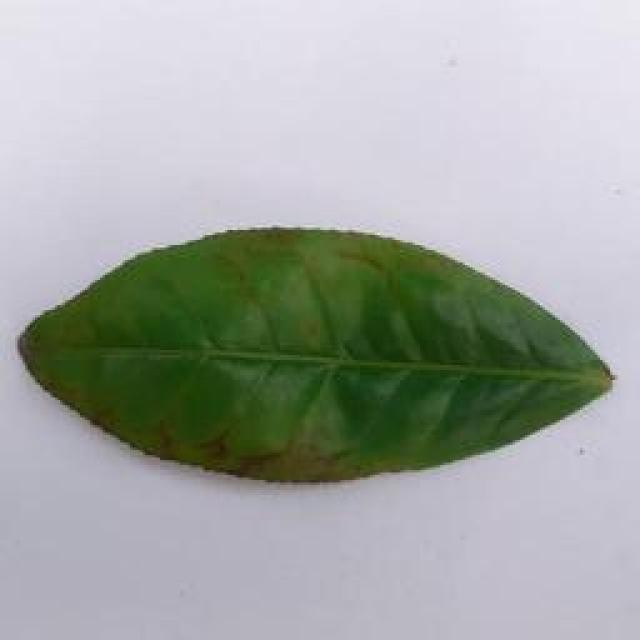Red Leaf Spot: (10, 222, 640, 502)
